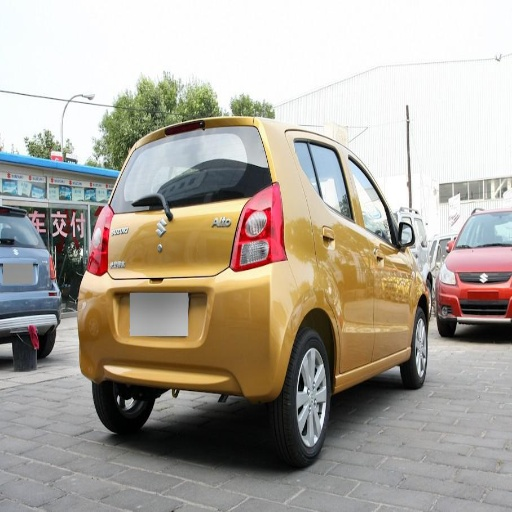back_bumper: (89, 303, 239, 386), (220, 262, 284, 335)
back_right_door: (297, 138, 372, 371)
trunk: (89, 200, 294, 395)
